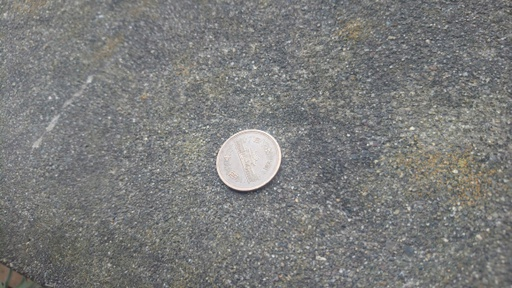10yen: (216, 129, 280, 191)
